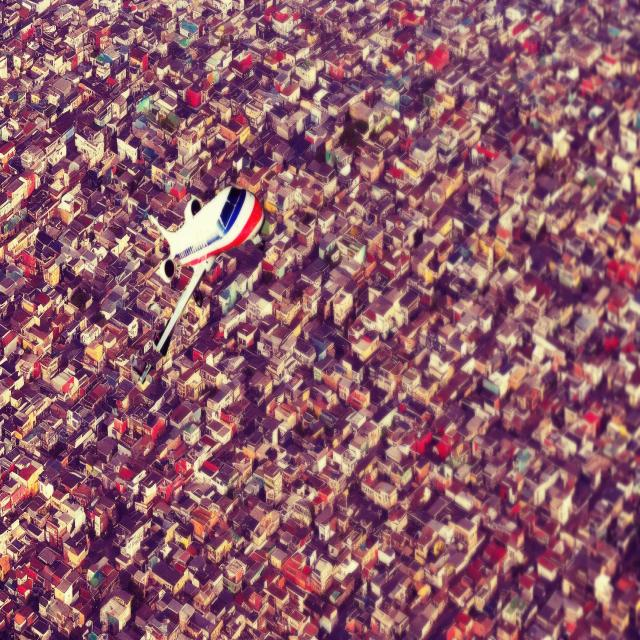airplane: (131, 184, 265, 378)
